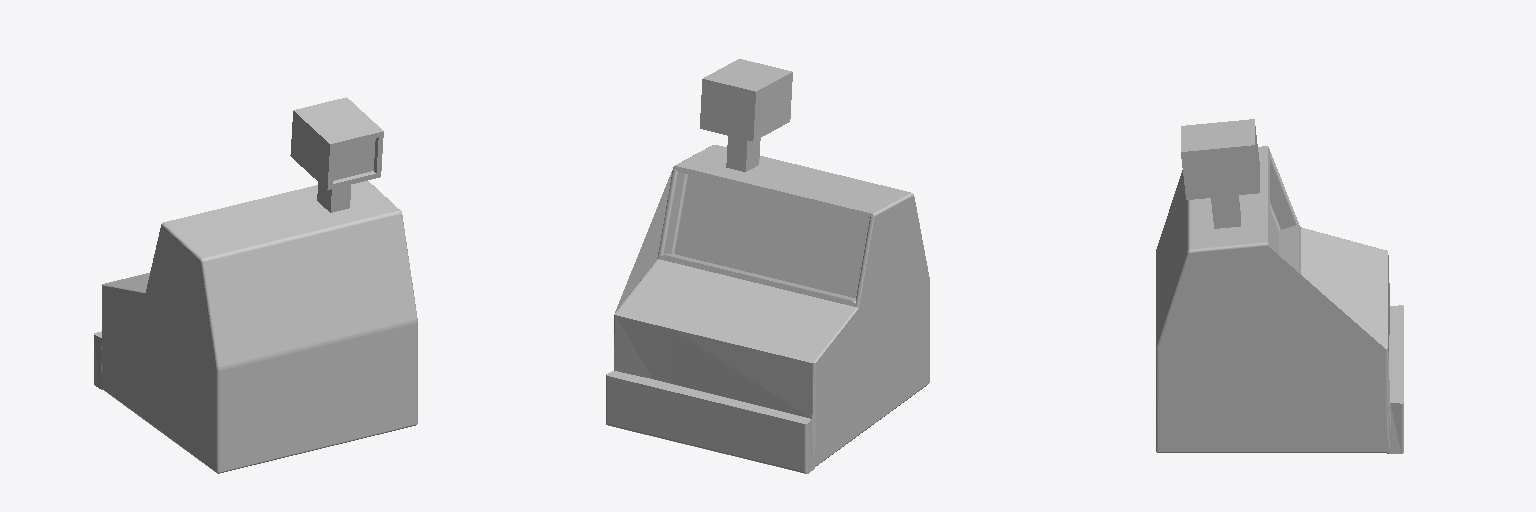
The model's file is cashier.obj.
3 views of the same model, side by side, from view 1: azimuth 30°, elevation 25°; view 2: azimuth 150°, elevation 25°; view 3: azimuth 270°, elevation 25° (orthographic).
Visible parts, largest first — view 1: Cashier_Cube.006; view 2: Cashier_Cube.006; view 3: Cashier_Cube.006.
Boxes of the visible parts, x1=… form: Cashier_Cube.006: x1=94, y1=97, x2=417, y2=473; Cashier_Cube.006: x1=606, y1=59, x2=929, y2=473; Cashier_Cube.006: x1=1156, y1=119, x2=1403, y2=453.
Bounding box in the file's own units: 2 × 2.83 × 2.14.